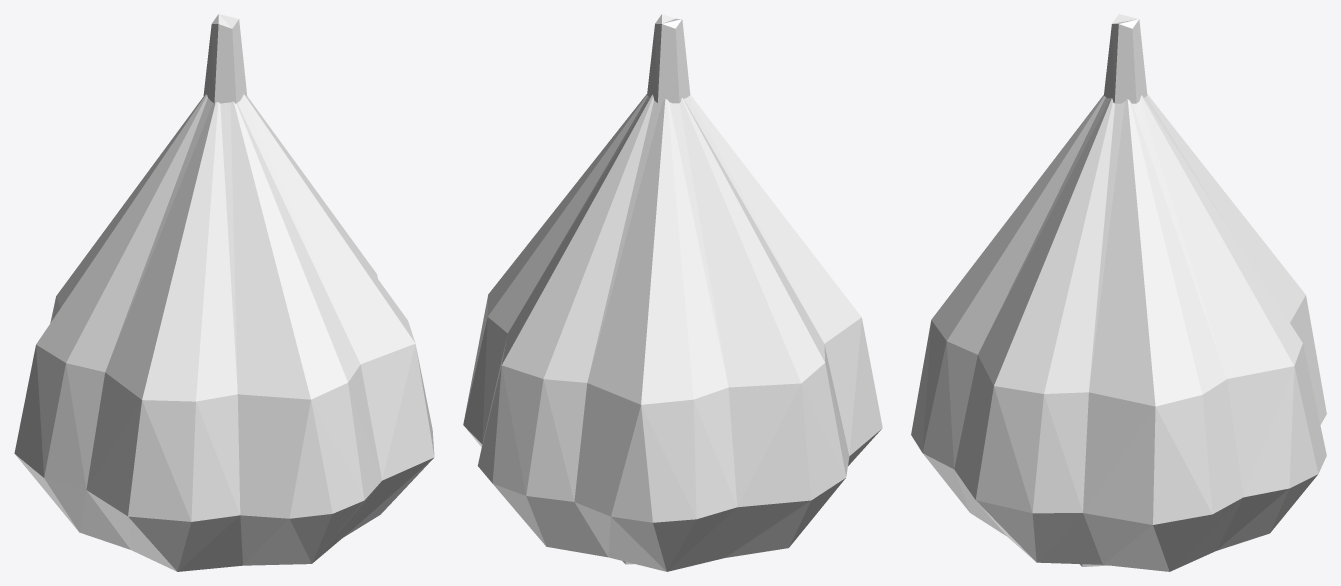
Rendered from Crop_Garlic_02.glb.
3 views of the same model, side by side, from view 1: azimuth 30°, elevation 25°; view 2: azimuth 150°, elevation 25°; view 3: azimuth 270°, elevation 25° (orthographic).
Visible parts, largest first — view 1: Crop_Garlic_02; view 2: Crop_Garlic_02; view 3: Crop_Garlic_02.
Boxes of the visible parts, bbox=[...] form: Crop_Garlic_02: bbox=[14, 14, 434, 571]; Crop_Garlic_02: bbox=[463, 14, 882, 571]; Crop_Garlic_02: bbox=[911, 14, 1326, 571].
Bounding box in the file's own units: 0.0957 × 0.1295 × 0.0945.
Materials: 1 (1 with a texture image).
